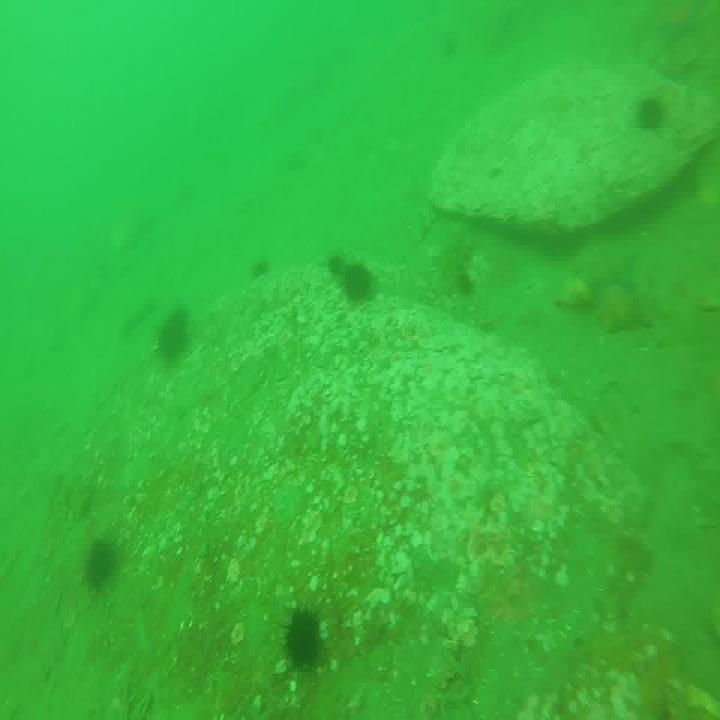echinus: (284, 602, 324, 664), (160, 303, 194, 366), (81, 536, 118, 591), (340, 262, 380, 308), (639, 96, 666, 132), (252, 258, 274, 280), (328, 253, 347, 276)
